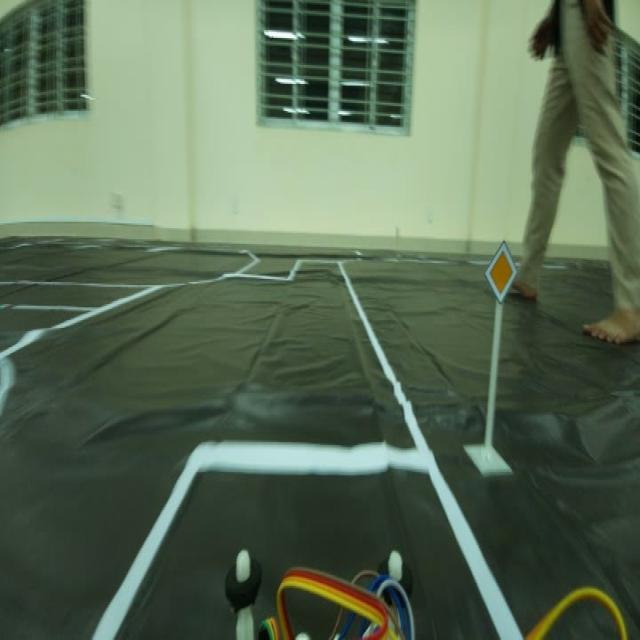priority: (481, 238, 521, 304)
